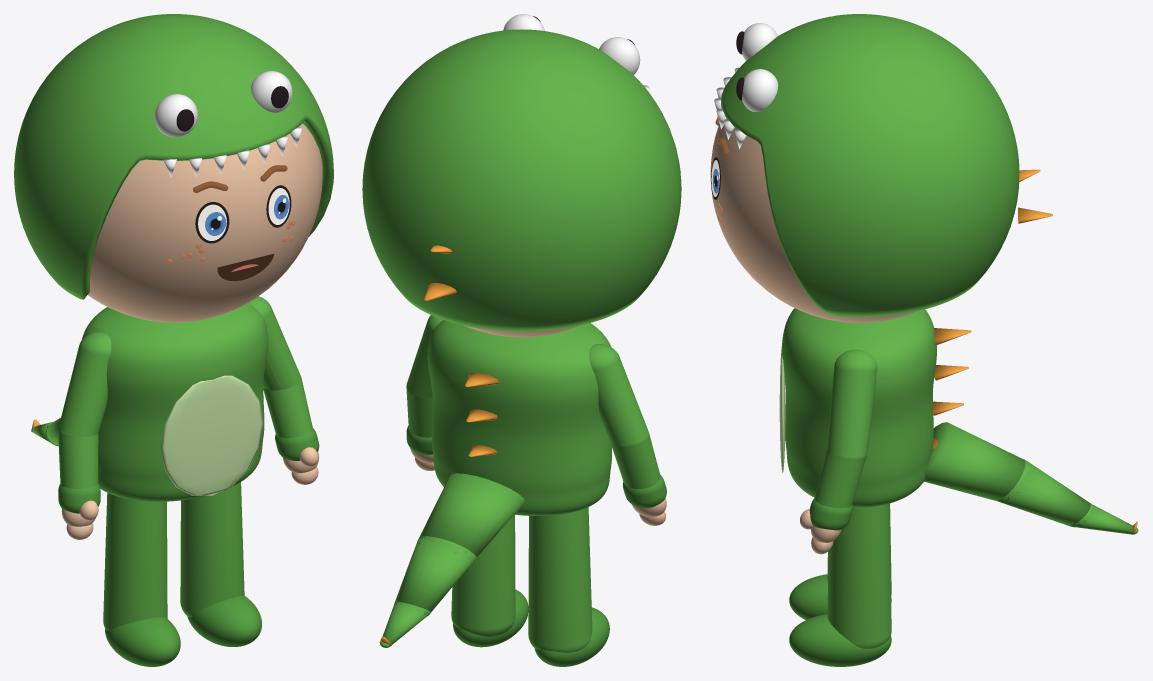
The model's file is broertje_dino.glb.
3 renders of one model, left to right at view 1: azimuth 30°, elevation 25°; view 2: azimuth 150°, elevation 25°; view 3: azimuth 270°, elevation 25°, orthographic.
Parts seen in each view (by area): view 1: broertje_dino_capuchon, broertje_dino_hoofd, broertje_dino_romp, broertje_dino_dino_buik, broertje_dino_been_R, broertje_dino_been_L, broertje_dino_bovenarm_R, broertje_dino_schoen_R, broertje_dino_schoen_L, broertje_dino_bovenarm_L, broertje_dino_onderarm_R, broertje_dino_onderarm_L (+6 smaller); view 2: broertje_dino_capuchon, broertje_dino_romp, broertje_dino_been_R, broertje_dino_been_L, broertje_dino_dino_staart0, broertje_dino_bovenarm_R, broertje_dino_dino_staart1, broertje_dino_onderarm_R, broertje_dino_schoen_R, broertje_dino_bovenarm_L, broertje_dino_schoen_L, broertje_dino_dino_staart2 (+6 smaller); view 3: broertje_dino_capuchon, broertje_dino_romp, broertje_dino_hoofd, broertje_dino_been_L, broertje_dino_dino_staart0, broertje_dino_bovenarm_L, broertje_dino_schoen_L, broertje_dino_dino_staart1, broertje_dino_onderarm_L, broertje_dino_schoen_R, broertje_dino_dino_oog_L, broertje_dino_manchet_L (+3 smaller).
Boxes of the visible parts, x1,y1,x2,y2 form: broertje_dino_capuchon: (14, 14, 333, 299); broertje_dino_hoofd: (88, 123, 322, 322); broertje_dino_romp: (82, 302, 268, 501); broertje_dino_dino_buik: (160, 375, 263, 495); broertje_dino_been_R: (103, 493, 167, 630); broertje_dino_been_L: (180, 482, 244, 617); broertje_dino_bovenarm_R: (58, 331, 111, 436); broertje_dino_schoen_R: (105, 617, 180, 666); broertje_dino_schoen_L: (187, 595, 261, 646); broertje_dino_bovenarm_L: (248, 296, 300, 390); broertje_dino_onderarm_R: (58, 431, 98, 488); broertje_dino_onderarm_L: (263, 379, 312, 438); broertje_dino_capuchon: (362, 29, 681, 331); broertje_dino_romp: (427, 320, 611, 515); broertje_dino_been_R: (528, 507, 592, 652); broertje_dino_been_L: (451, 514, 515, 636); broertje_dino_dino_staart0: (419, 473, 524, 557); broertje_dino_bovenarm_R: (589, 344, 648, 447); broertje_dino_dino_staart1: (395, 538, 476, 612); broertje_dino_onderarm_R: (610, 435, 660, 488); broertje_dino_schoen_R: (534, 607, 609, 666); broertje_dino_bovenarm_L: (407, 315, 442, 398); broertje_dino_schoen_L: (453, 589, 528, 647); broertje_dino_dino_staart2: (382, 603, 430, 644); broertje_dino_capuchon: (721, 14, 1019, 316); broertje_dino_romp: (781, 308, 936, 507); broertje_dino_hoofd: (710, 124, 916, 322); broertje_dino_been_L: (827, 504, 891, 648); broertje_dino_dino_staart0: (924, 422, 1025, 500); broertje_dino_bovenarm_L: (827, 349, 877, 460); broertje_dino_schoen_L: (789, 614, 891, 666); broertje_dino_dino_staart1: (996, 462, 1090, 525); broertje_dino_onderarm_L: (815, 450, 866, 508); broertje_dino_schoen_R: (789, 574, 891, 619); broertje_dino_dino_oog_L: (742, 69, 778, 111); broertje_dino_manchet_L: (809, 497, 852, 530).
Size of the model in its own units: 0.5805 by 1.23 by 0.7758.
